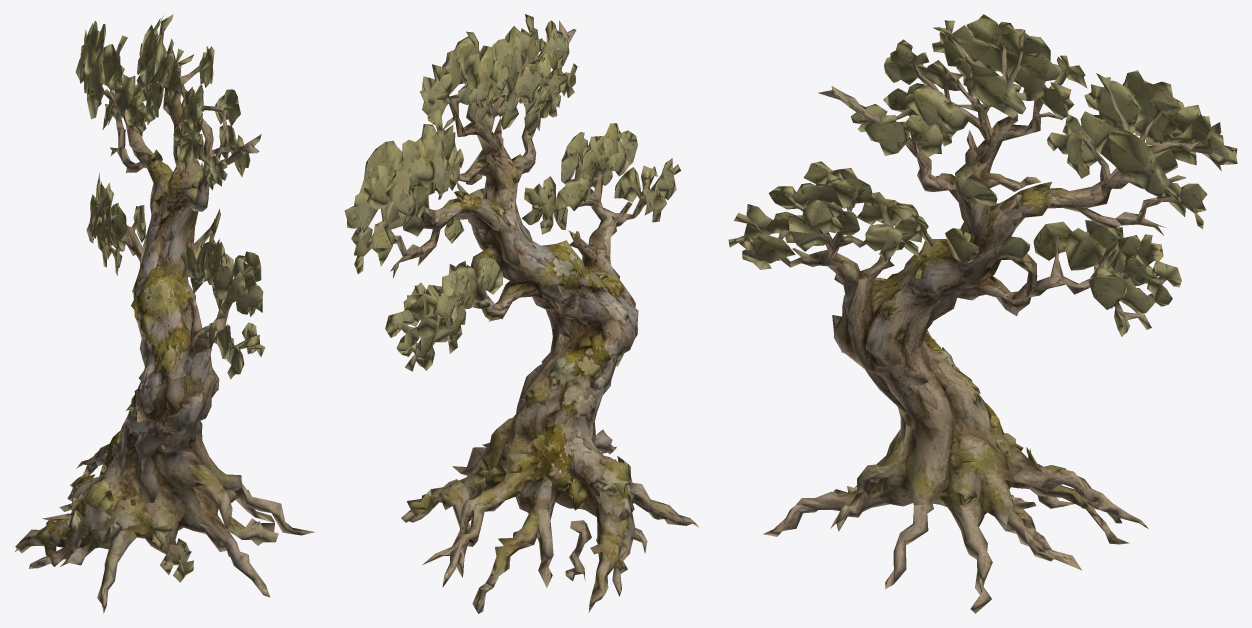
The model's file is wind_tree_c.glb.
3 renders of one model, left to right at view 1: azimuth 30°, elevation 25°; view 2: azimuth 150°, elevation 25°; view 3: azimuth 270°, elevation 25°, orthographic. The views are drawn at different scales.
Visible parts, largest first — view 1: wind_tree_c__tree; view 2: wind_tree_c__tree; view 3: wind_tree_c__tree.
Boxes of the visible parts, bbox=[...] form: wind_tree_c__tree: bbox=[15, 14, 314, 613]; wind_tree_c__tree: bbox=[344, 14, 698, 613]; wind_tree_c__tree: bbox=[728, 14, 1237, 613].
Bounding box in the file's own units: 1.42 × 3.08 × 2.58.
1 material, 1 textured.
